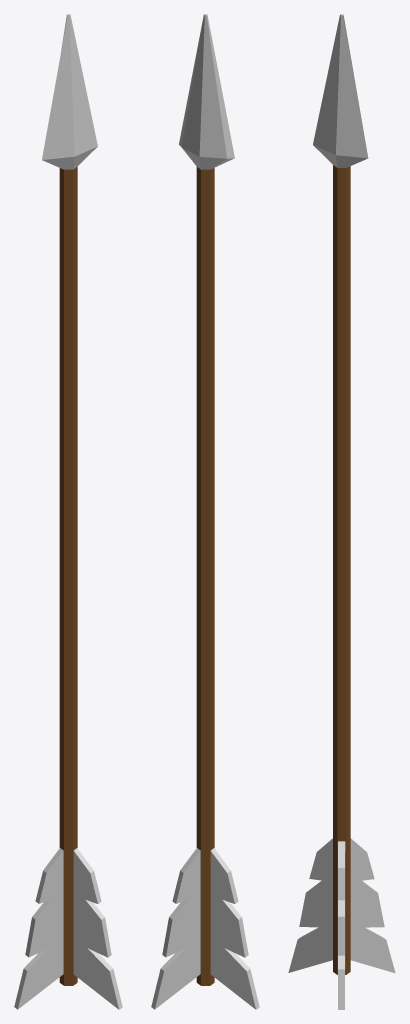
File: Arrow.fbx
3 renders of one model, left to right at view 1: azimuth 30°, elevation 25°; view 2: azimuth 150°, elevation 25°; view 3: azimuth 330°, elevation 25°, orthographic.
Parts seen in each view (by area): view 1: Arrow; view 2: Arrow; view 3: Arrow.
Boxes of the visible parts, box(x1,y1,x2,y2) form: Arrow: box(14, 14, 122, 1009); Arrow: box(151, 14, 259, 1009); Arrow: box(288, 14, 395, 1009).
Size of the model in its own units: 12.69 by 146 by 14.6.
